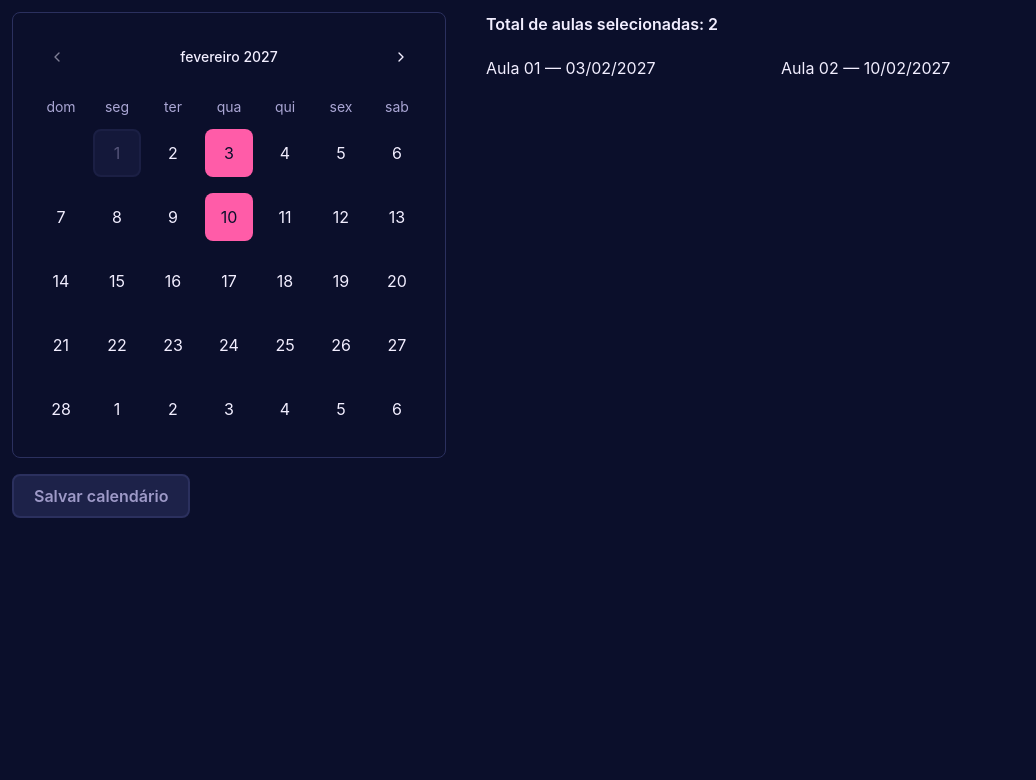
Scenario: 004/US4 MeetingCalendar — calendário de encontros da turma › 004/US4-4 004/US4-5 "Salvar calendário" envia só as datas acrescentadas e removidas
The width and height of the screenshot is (1036, 780).
Check: the text "Total de aulas selecionadas: 2" is shown, box [486,14,718,34]
Click the button "17" at (229, 281), box [205,257,253,305]
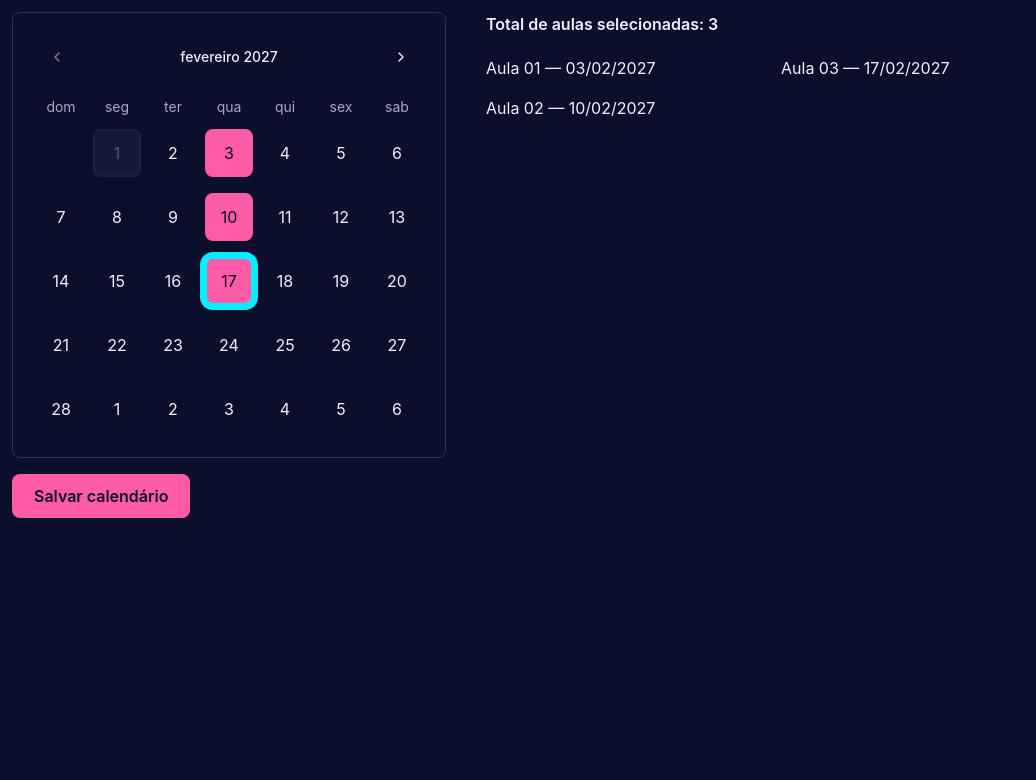
Click the button "10" at (229, 217), box [205,193,253,241]
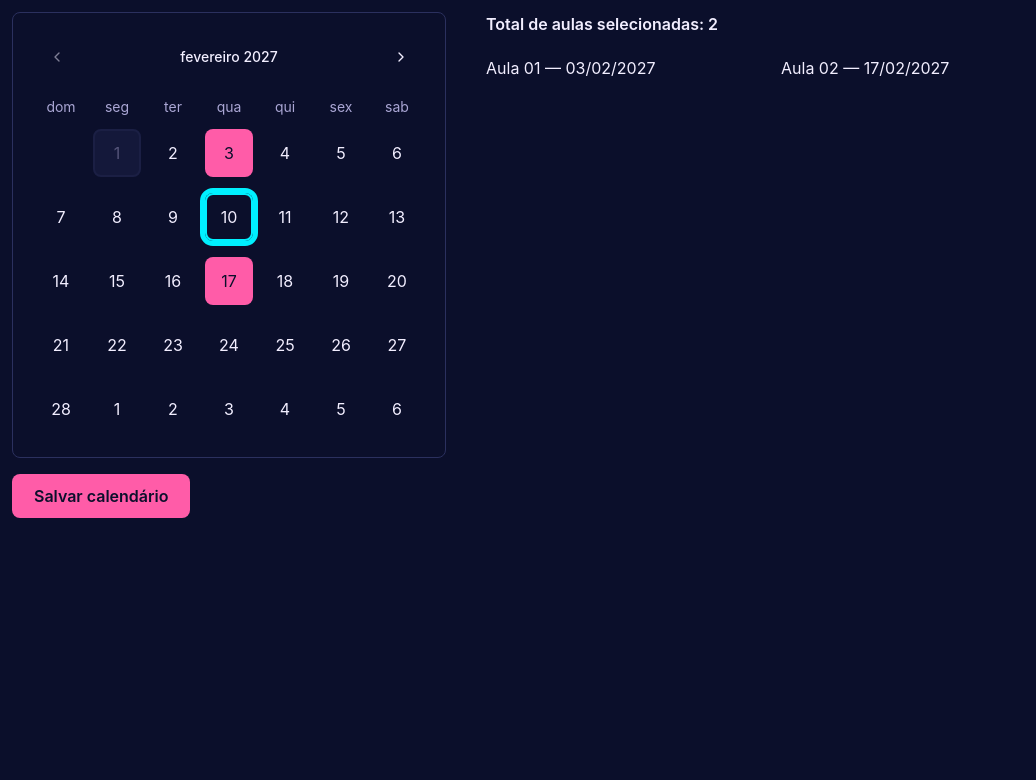
Click the button "24" at (229, 345), box [205,321,253,369]
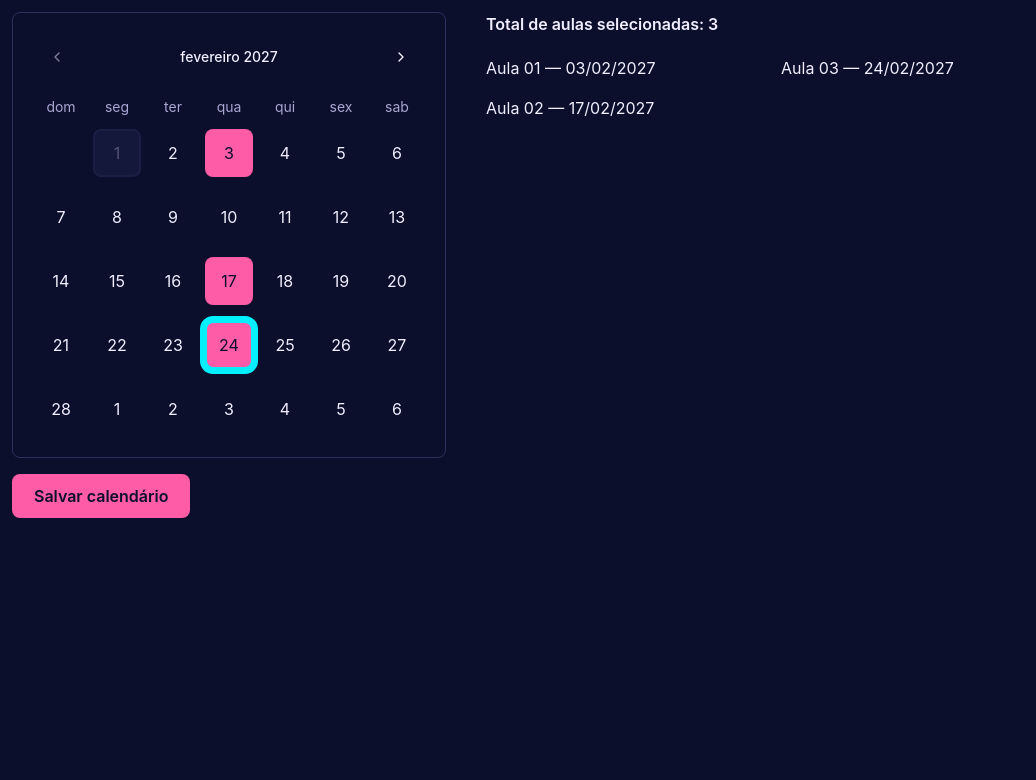
Click the button "24" at (229, 345), box [205,321,253,369]
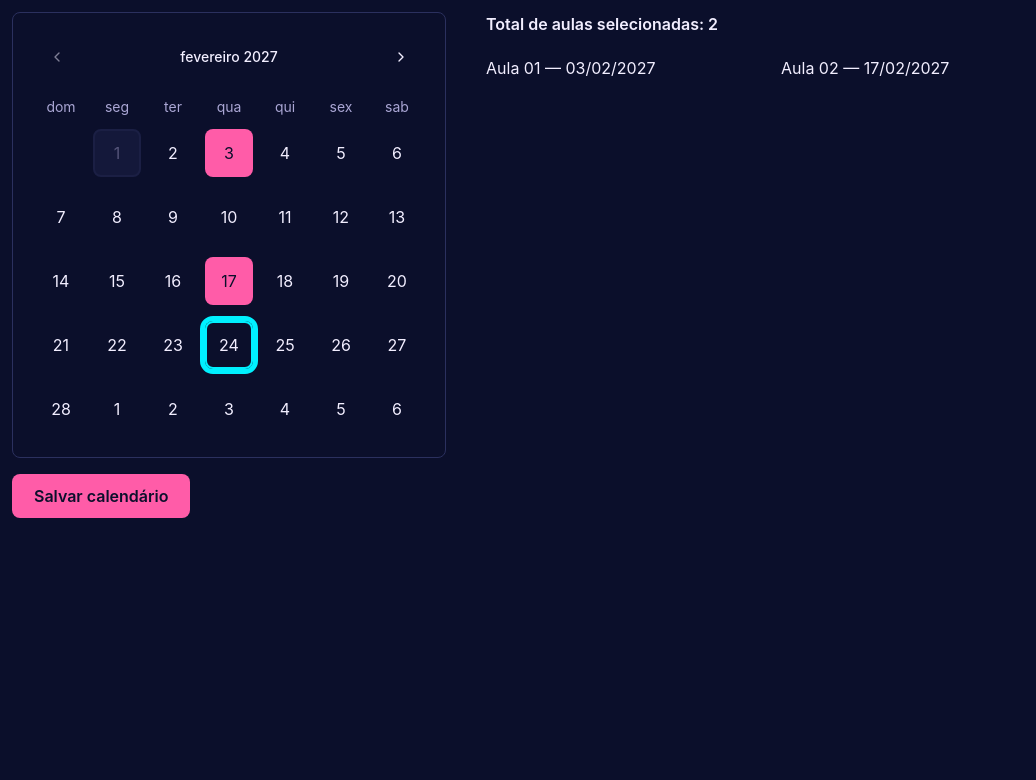
Check: the text "Total de aulas selecionadas: 2" is shown, box [486,14,718,34]
Check: the list items read "Aula 01 — 03/02/2027", "Aula 02 — 17/02/2027", in this order, box [486,58,656,78]; [781,58,949,78]
Click the button "Salvar calendário" at (101, 496), box [12,474,190,518]
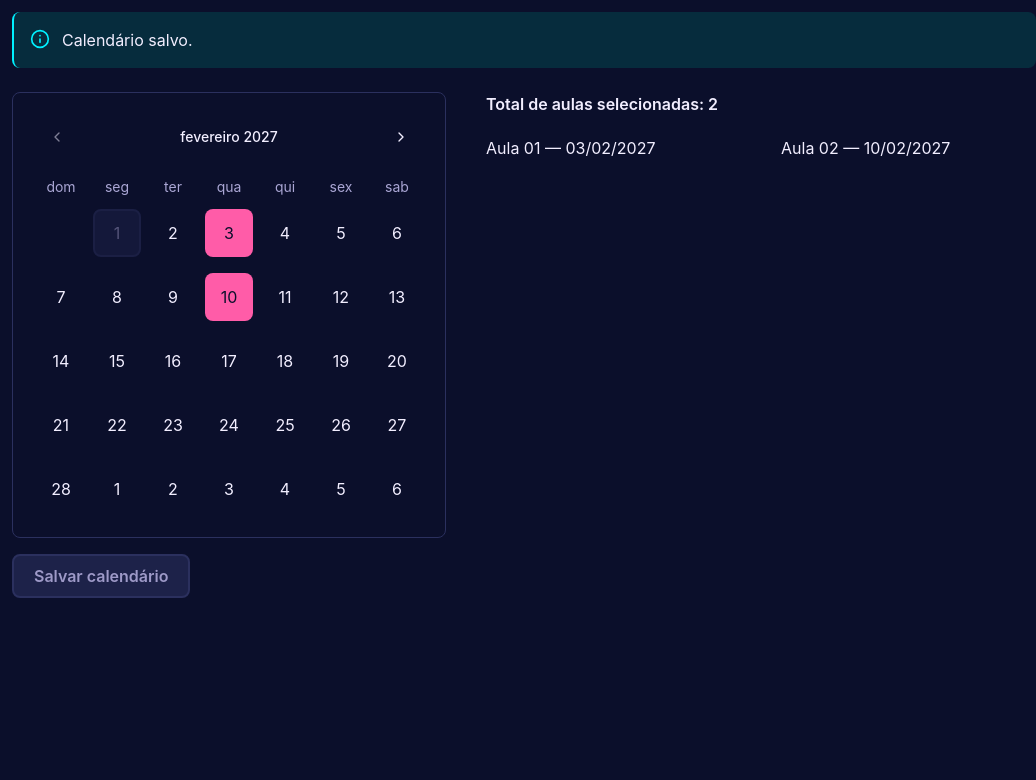
Check: the text "Calendário salvo." is shown, box [62,30,192,50]
